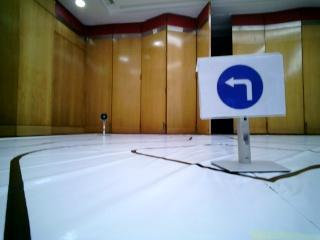left: (195, 60, 284, 114)
